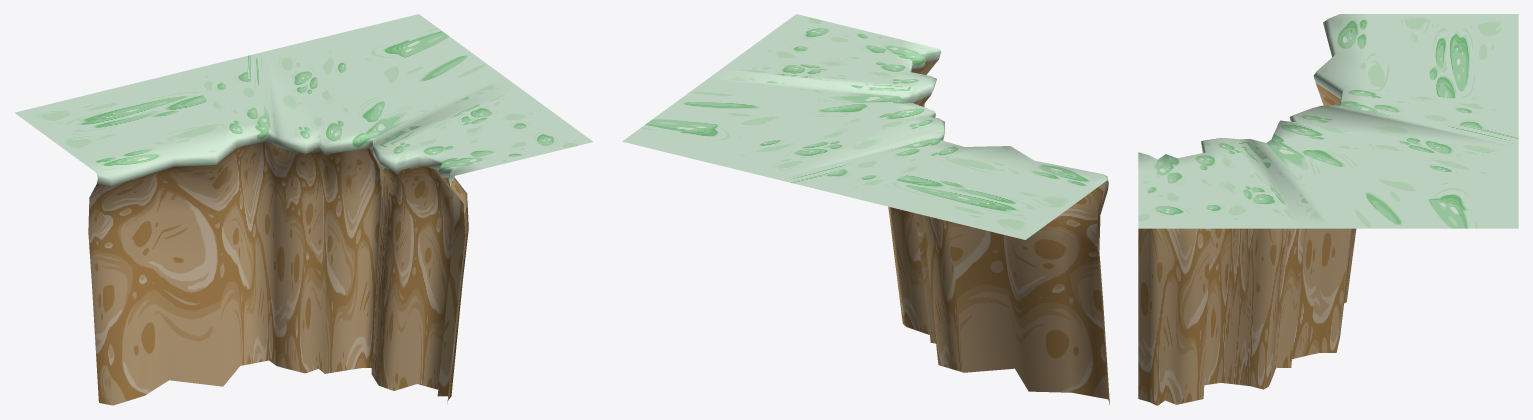
The model's file is SM_tille_curve_inside_01.fbx.
3 views of the same model, side by side, from view 1: azimuth 30°, elevation 25°; view 2: azimuth 150°, elevation 25°; view 3: azimuth 270°, elevation 25° (orthographic). The views are drawn at different scales.
Visible parts, largest first — view 1: SM_tille_curve_inside_01; view 2: SM_tille_curve_inside_01; view 3: SM_tille_curve_inside_01.
Boxes of the visible parts, left/top/right/bottom form: SM_tille_curve_inside_01: left=14, top=14, right=593, bottom=405; SM_tille_curve_inside_01: left=622, top=14, right=1109, bottom=404; SM_tille_curve_inside_01: left=1138, top=14, right=1518, bottom=405.
Bounding box in the file's own units: 3231 × 1742 × 2418.
